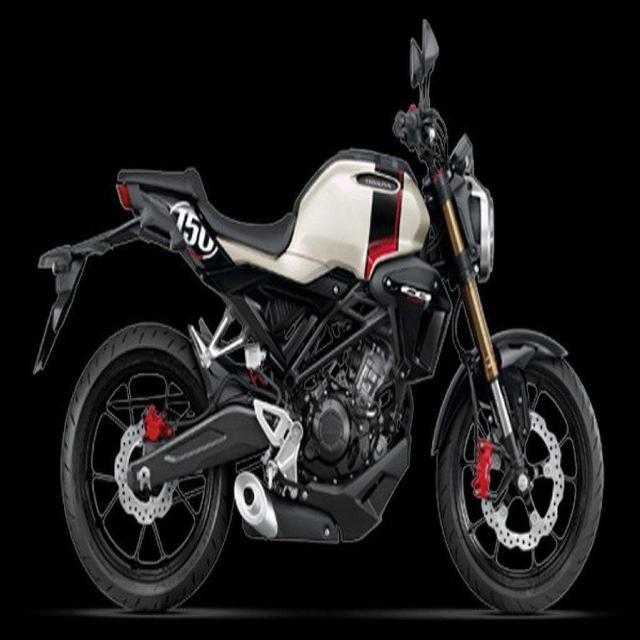motorcycle: (16, 9, 616, 628)
